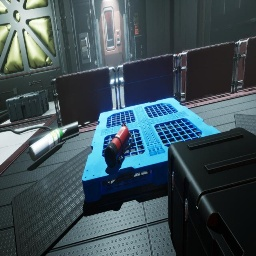0: (29, 128, 67, 161)
EmergencyPhone ,: (133, 10, 138, 25)
FireAlarm ,: (135, 25, 139, 35)
FireExtinguisher ]: (104, 122, 133, 168)
SafetySwitchPanel ,: (79, 32, 91, 64)
